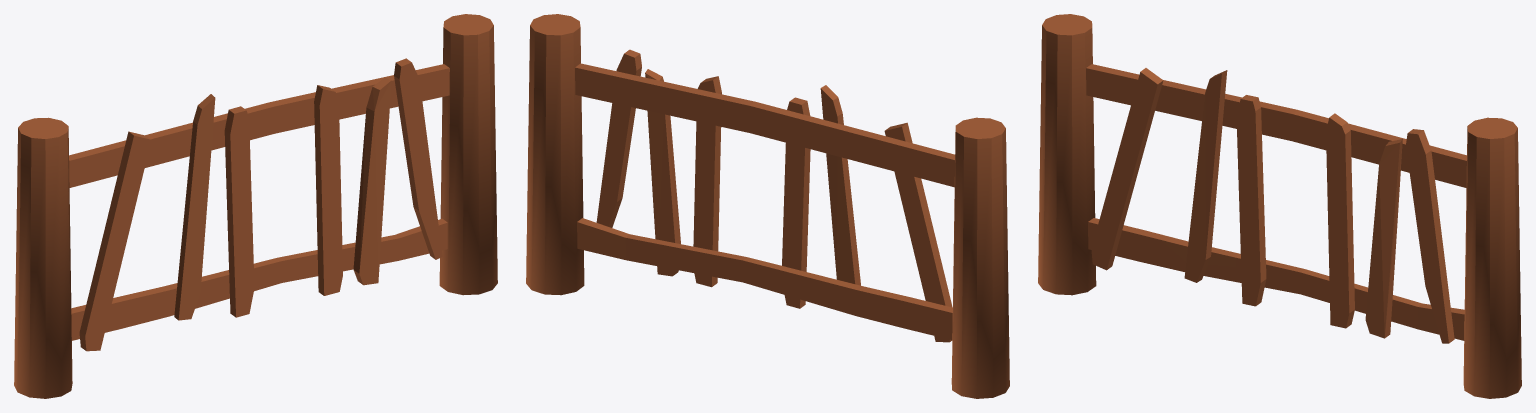
Rendered from fence2.fbx.
The picture shows the model from 3 angles, left to right: view 1: azimuth 30°, elevation 25°; view 2: azimuth 150°, elevation 25°; view 3: azimuth 330°, elevation 25°; orthographic projection.
Visible parts, largest first — view 1: Big_Fence_03; view 2: Big_Fence_03; view 3: Big_Fence_03.
Part boxes in pixels (x1,y1,x2,y2): Big_Fence_03: (14,14,497,398); Big_Fence_03: (526,14,1009,398); Big_Fence_03: (1038,14,1521,398).
Size of the model in its own units: 87.41 by 45.3 by 9.33.
